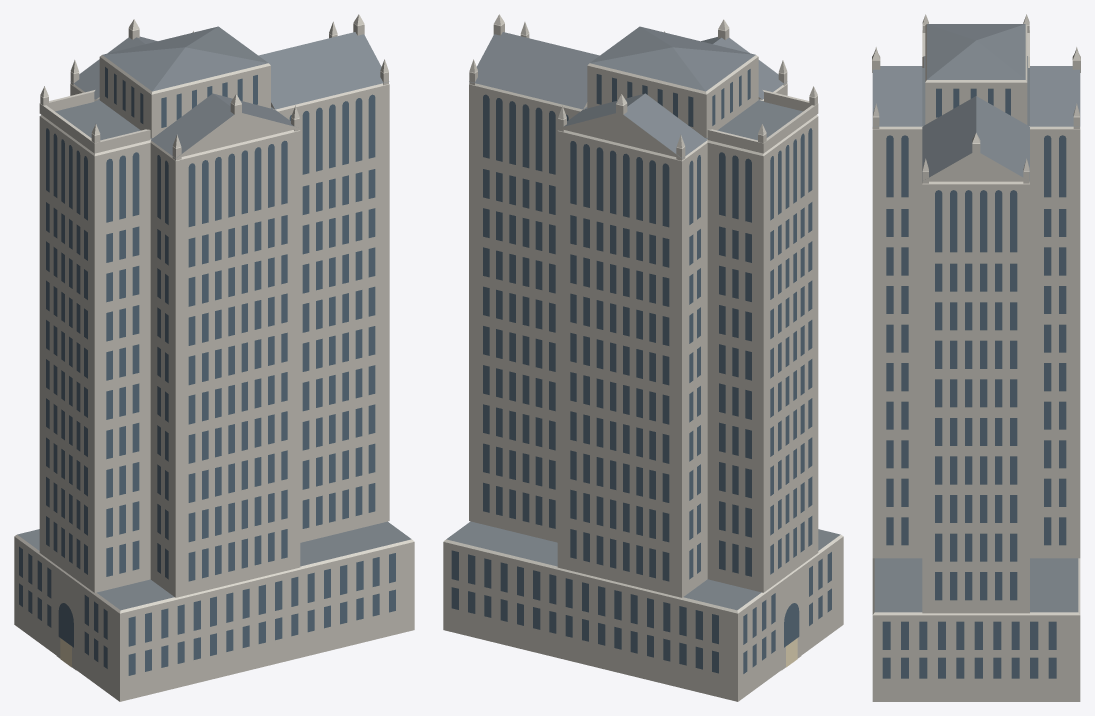
The model's file is det-buhl-building.glb.
3 views of the same model, side by side, from view 1: azimuth 30°, elevation 25°; view 2: azimuth 150°, elevation 25°; view 3: azimuth 270°, elevation 25° (orthographic).
Visible parts, largest first — view 1: Buhl Building; view 2: Buhl Building; view 3: Buhl Building.
Part boxes in pixels (x1,y1,x2,y2): Buhl Building: (14,14,414,701); Buhl Building: (443,14,843,701); Buhl Building: (872,14,1080,701).
Size of the model in its own units: 58.27 by 110 by 36.2.
